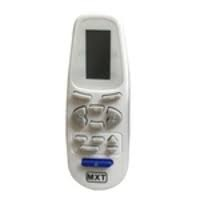remote control: (61, 14, 135, 192)
